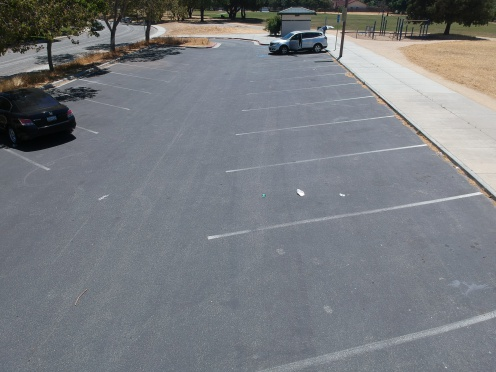bottle: (290, 184, 312, 202)
